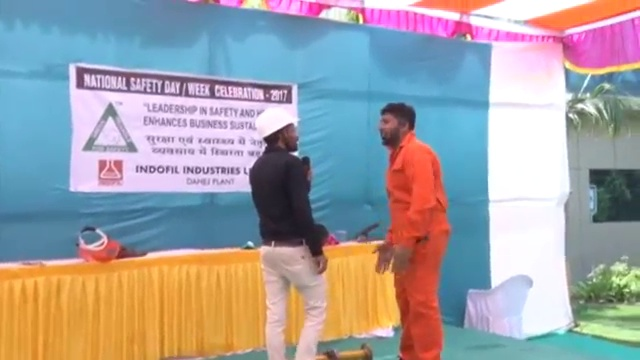helmet: (255, 108, 301, 139)
helmet_off: (377, 101, 418, 145)
helmet_on: (254, 108, 300, 153)
person: (243, 105, 334, 360), (367, 100, 452, 360)
